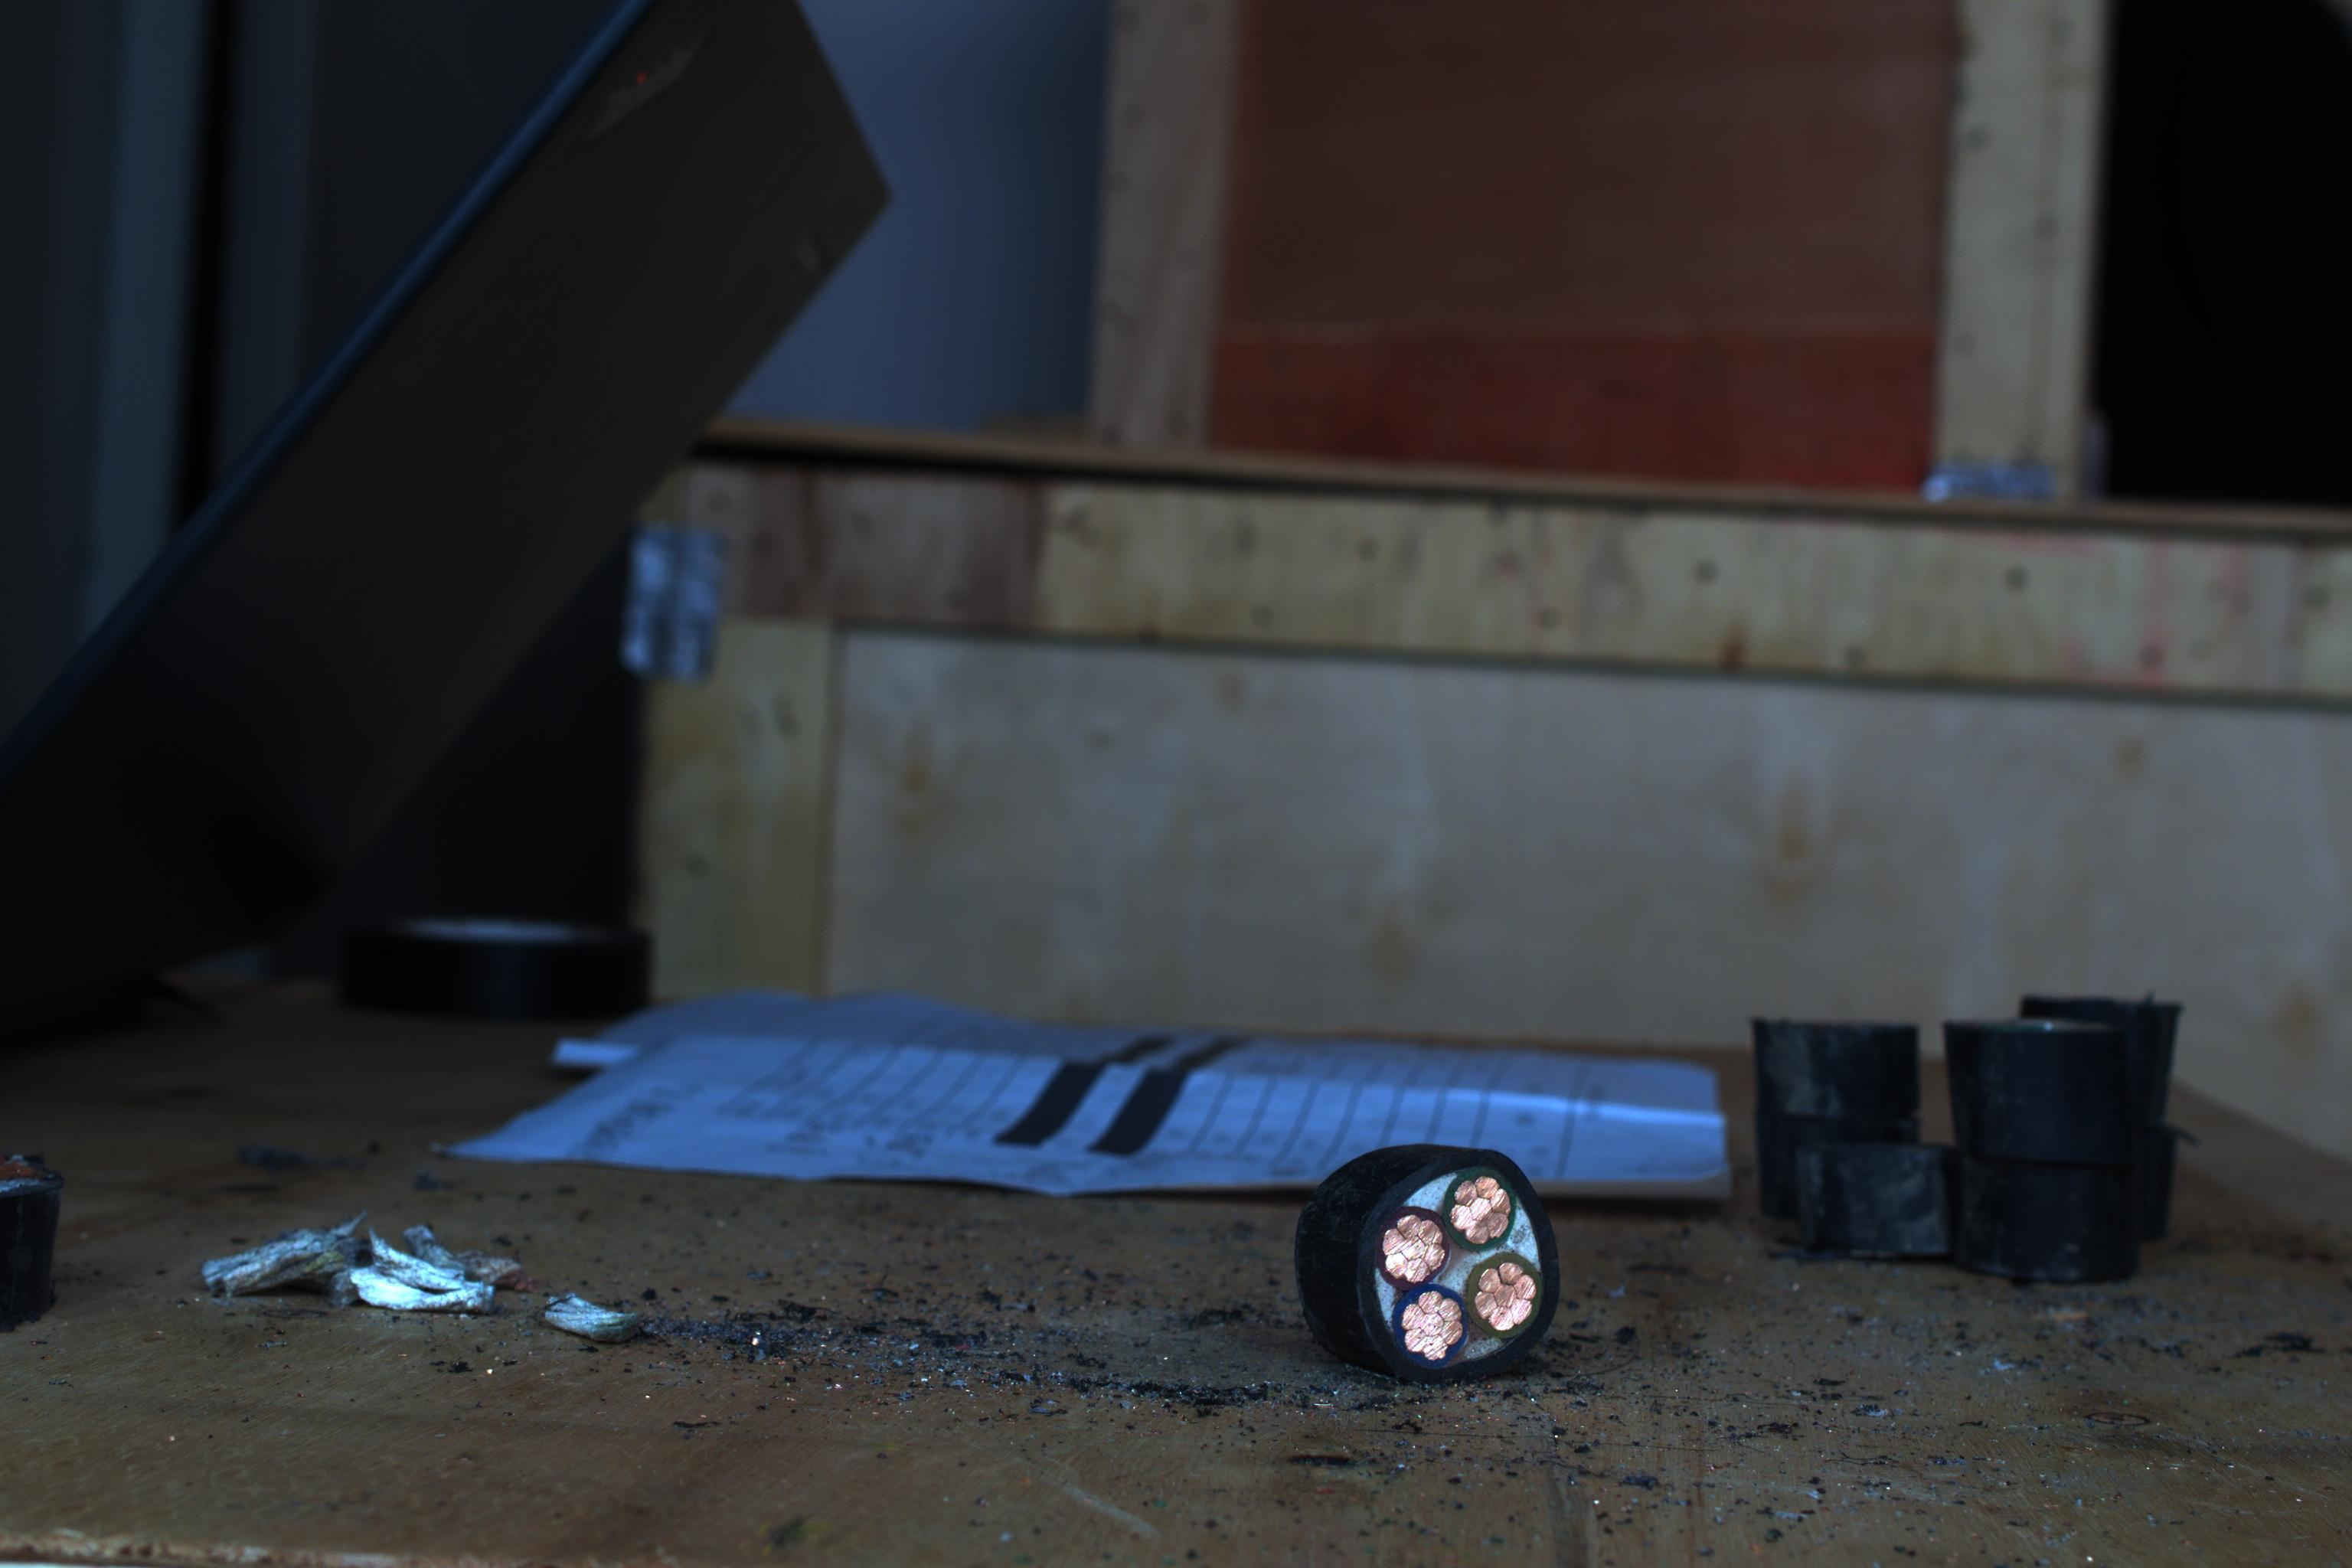YJV_0.6_1kV_4x35: (1335, 1132, 1570, 1370)
